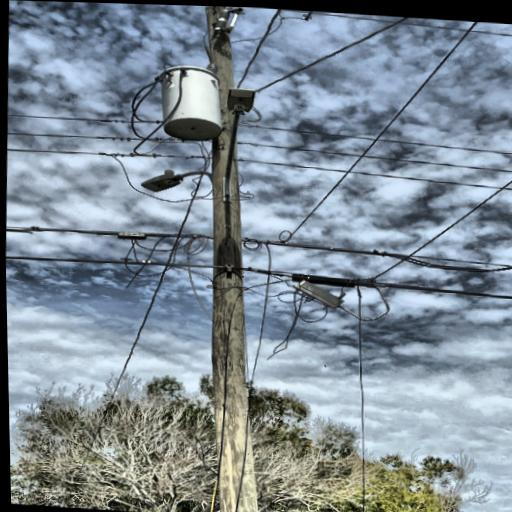insulator: (210, 6, 228, 9)
pole: (180, 5, 308, 512)
street light: (217, 85, 261, 206), (138, 164, 221, 197)
transformer: (155, 63, 226, 144)
